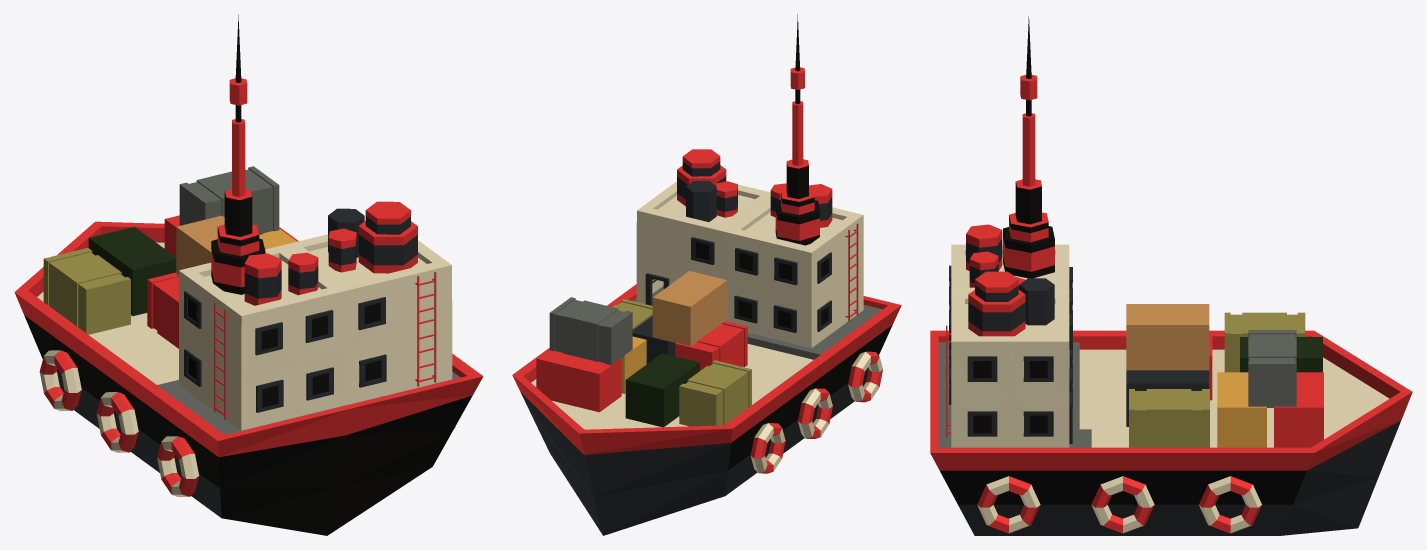
The model's file is boat.FBX.
The picture shows the model from 3 angles, left to right: view 1: azimuth 30°, elevation 25°; view 2: azimuth 150°, elevation 25°; view 3: azimuth 270°, elevation 25°; orthographic projection. The views are drawn at different scales.
Visible parts, largest first — view 1: cargoship; view 2: cargoship; view 3: cargoship.
Part boxes in pixels (x1,y1,x2,y2): cargoship: [14, 14, 483, 535]; cargoship: [512, 14, 901, 535]; cargoship: [930, 16, 1412, 535].
Bounding box in the file's own units: 45.33 × 81.75 × 73.46.
